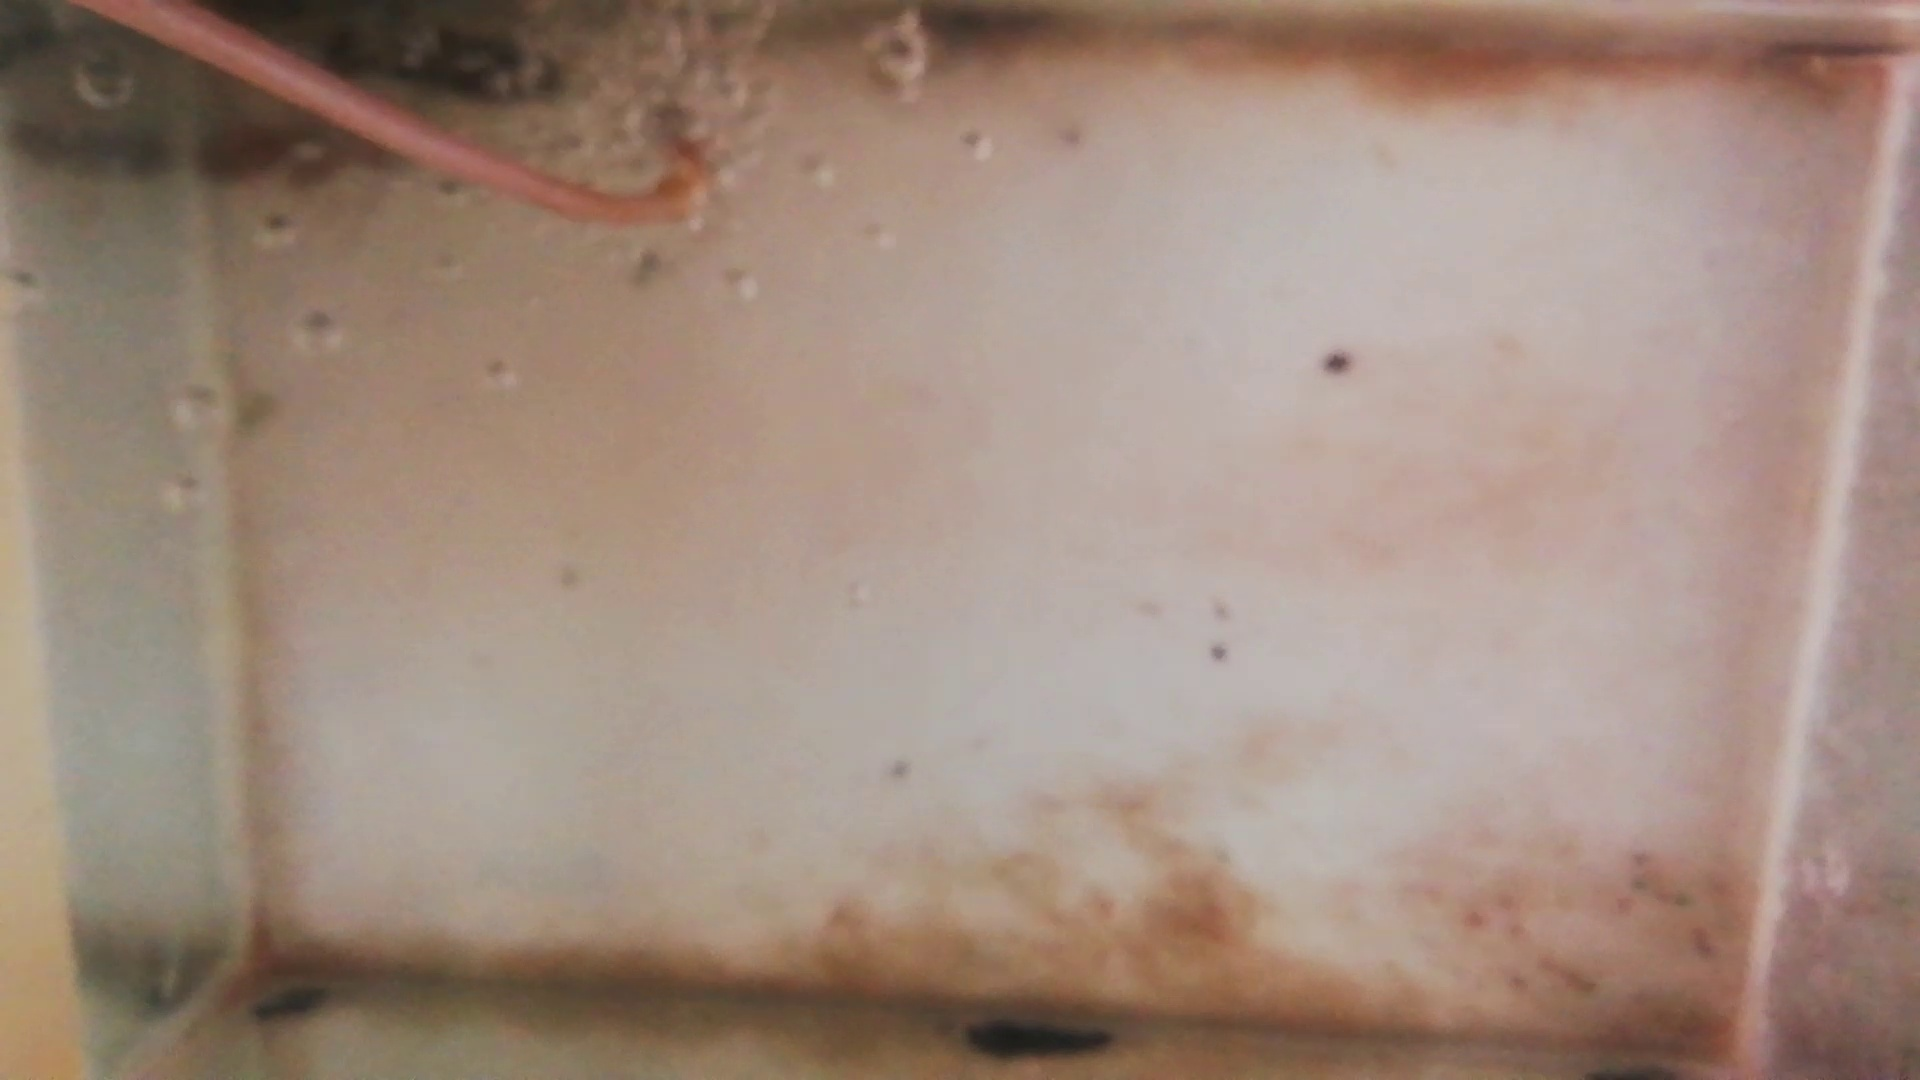fish: (338, 40, 554, 102), (190, 127, 389, 181)
